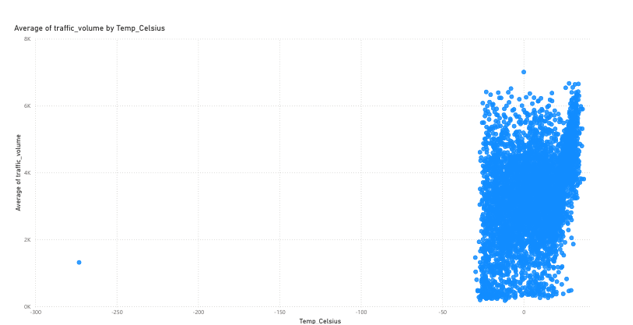

This screenshot's page, from the dashboard's own definition file:
{"tool":"powerbi","page":{"name":"Ave Traffic V by Temperature","canvas":[1280,720],"ordinal":3},"visuals":[{"type":"scatterChart","fields":{"Y":["Avg(Metro_Interstate_Traffic_Volume.traffic_volume)"],"X":["Metro_Interstate_Traffic_Volume.Temp_Celsius"]},"box":[9.4,0,1269.9,644.4],"z":0}]}

Visuals, with their boxes on the page's 1280x720 design canvas (x1, y1, x2, y2). These are canvas units, not pixel positions in the 633x325 screenshot, which may show the page scaled, cropped or inside an application window:
scatterChart - Avg(Metro_Interstate_Traffic_Volume.traffic_volume) x Metro_Interstate_Traffic_Volume.Temp_Celsius: bbox=(9, 0, 1279, 644)
